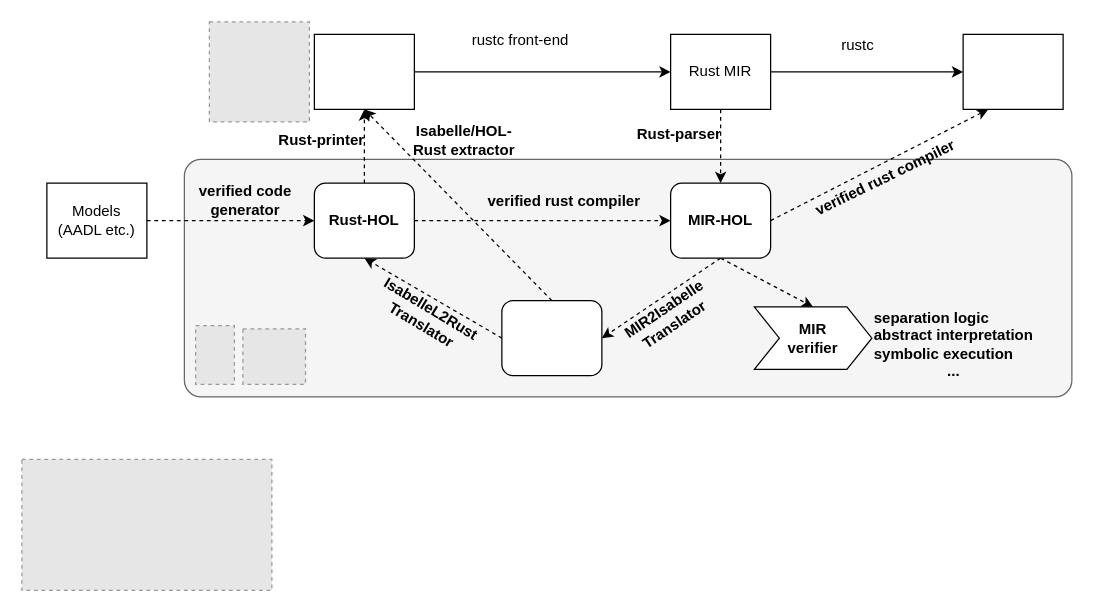
Image size: 1094x613. Some labels were removed from this diagram. Grey dashed boxes stand in for pictures. Here are the shapes that lost their labels. From the top down, the box of each, then its label:
(313, 33, 414, 109): Rust
(962, 33, 1063, 109): LLVM IR
(501, 299, 602, 376): Isabelle/HOL
